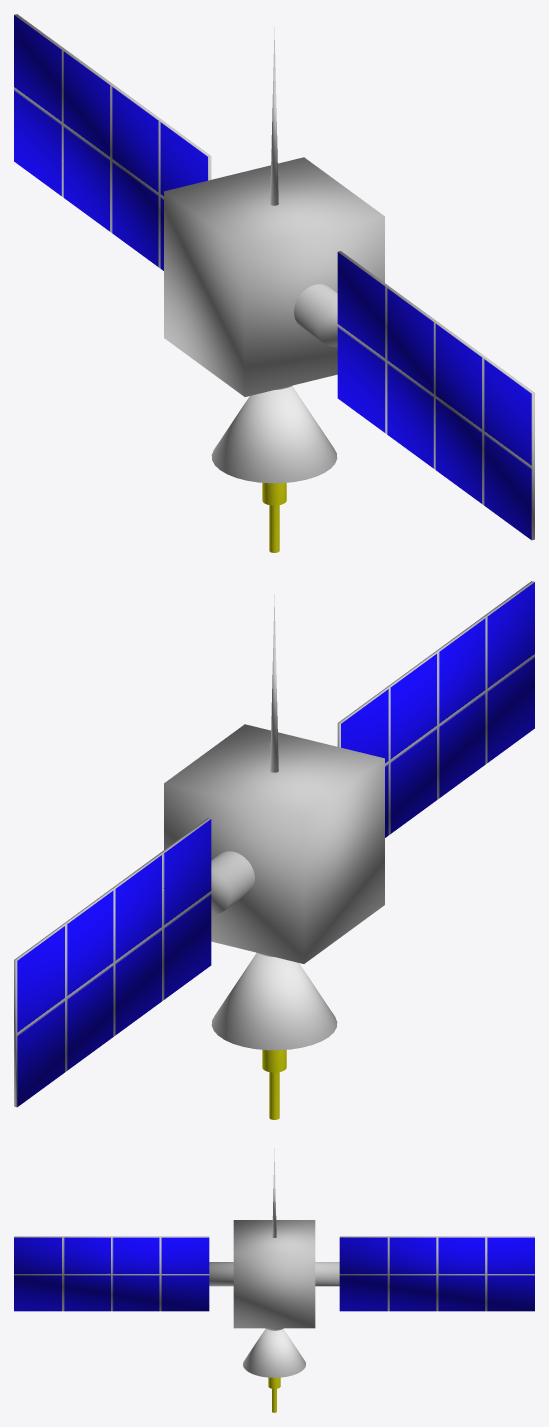
The model's file is satellite.fbx.
3 views of the same model, one above another, from view 1: azimuth 30°, elevation 25°; view 2: azimuth 150°, elevation 25°; view 3: azimuth 270°, elevation 25° (orthographic). The views are drawn at different scales.
Parts seen in each view (by area): view 1: Cone, Cylinder.001; view 2: Cone, Cylinder.001; view 3: Cone, Cylinder.001.
Boxes of the visible parts, x1=… form: Cone: x1=14, y1=14, x2=534, y2=540; Cylinder.001: x1=211, y1=385, x2=337, y2=552; Cone: x1=14, y1=581, x2=534, y2=1107; Cylinder.001: x1=211, y1=952, x2=337, y2=1119; Cone: x1=14, y1=1148, x2=534, y2=1328; Cylinder.001: x1=243, y1=1328, x2=305, y2=1412.
Bounding box in the file's own units: 2 × 7.15 × 12.8.
